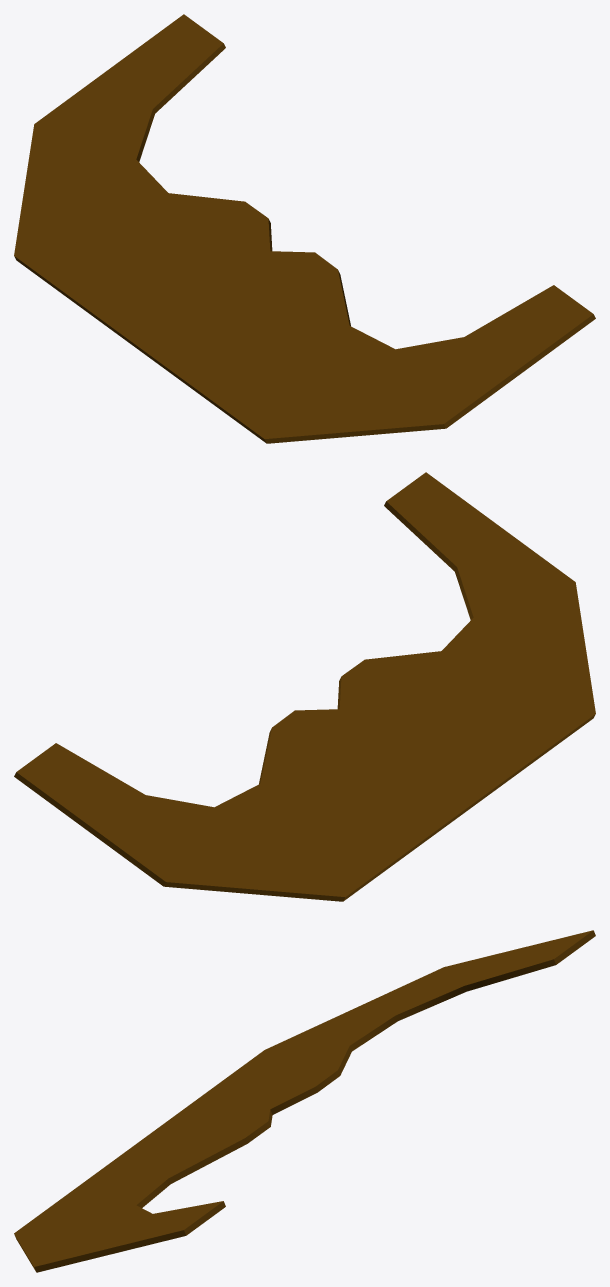
The model's file is Palette_Heures_instance_3.obj.
3 views of the same model, one above another, from view 1: azimuth 30°, elevation 25°; view 2: azimuth 150°, elevation 25°; view 3: azimuth 330°, elevation 25° (orthographic).
Visible parts, largest first — view 1: Face_6, Face_3, Face_2, Face_1, Face_11; view 2: Face_6, Face_9, Face_8, Face_1, Face_5; view 3: Face_6, Face_11, Face_5, Face_3.
Part boxes in pixels (left/top/right/bottom): Face_6: left=14, top=14, right=593, bottom=438; Face_3: left=444, top=314, right=595, bottom=428; Face_2: left=265, top=424, right=445, bottom=443; Face_1: left=14, top=256, right=266, bottom=443; Face_11: left=136, top=43, right=272, bottom=251; Face_6: left=16, top=472, right=595, bottom=896; Face_9: left=14, top=772, right=165, bottom=886; Face_8: left=164, top=882, right=344, bottom=901; Face_1: left=343, top=714, right=595, bottom=901; Face_5: left=337, top=501, right=473, bottom=709; Face_6: left=14, top=930, right=592, bottom=1266; Face_11: left=270, top=959, right=555, bottom=1114; Face_5: left=136, top=1110, right=272, bottom=1207; Face_3: left=34, top=1230, right=185, bottom=1272.
Bounding box in the file's own units: 0.0183 × 0.00886 × 0.0515.
